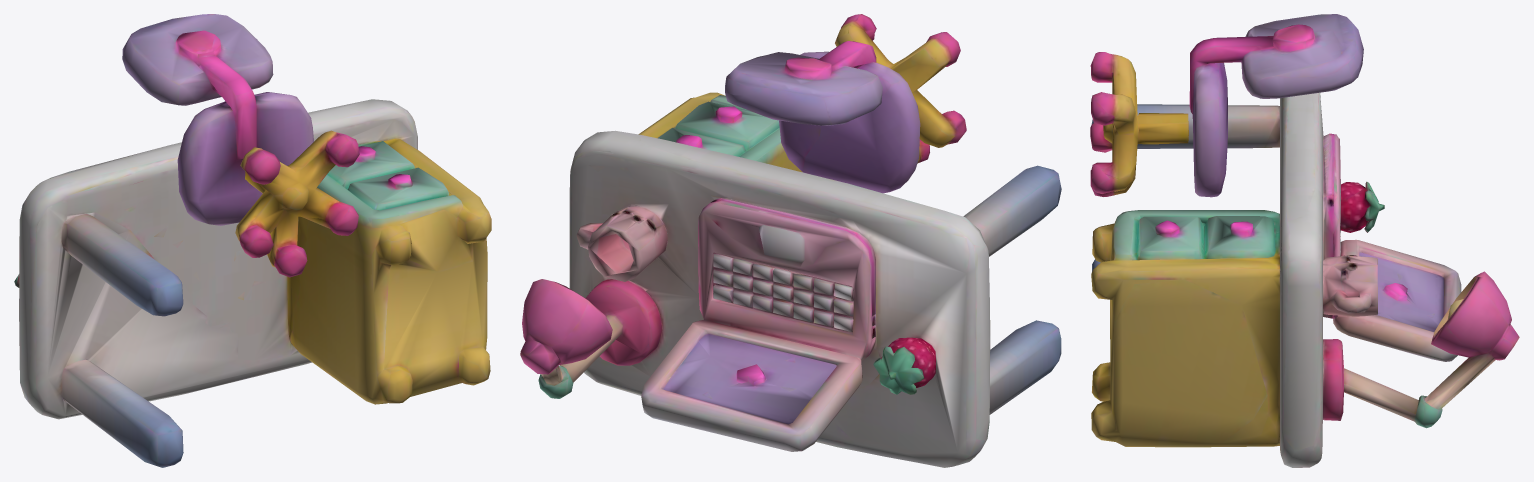
The picture shows the model from 3 angles, left to right: view 1: azimuth 30°, elevation 25°; view 2: azimuth 150°, elevation 25°; view 3: azimuth 270°, elevation 25°; orthographic projection. The views are drawn at different scales.
Parts seen in each view (by area): view 1: material; view 2: material; view 3: material.
Part boxes in pixels (x1=…): material: x1=14, y1=14, x2=491, y2=467; material: x1=520, y1=14, x2=1061, y2=467; material: x1=1090, y1=14, x2=1519, y2=467.
Bounding box in the file's own units: 1 × 0.8665 × 0.9656.
1 material, 1 textured.
